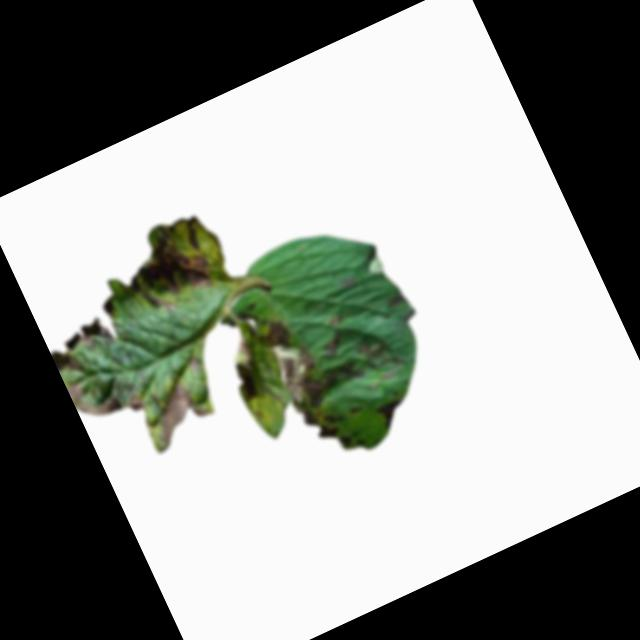Early_blight: (110, 203, 239, 323), (253, 312, 331, 419), (66, 359, 146, 436), (141, 370, 213, 446), (298, 403, 349, 460), (72, 314, 116, 356), (228, 358, 264, 406), (375, 397, 410, 429), (354, 337, 383, 367), (320, 337, 343, 359)
